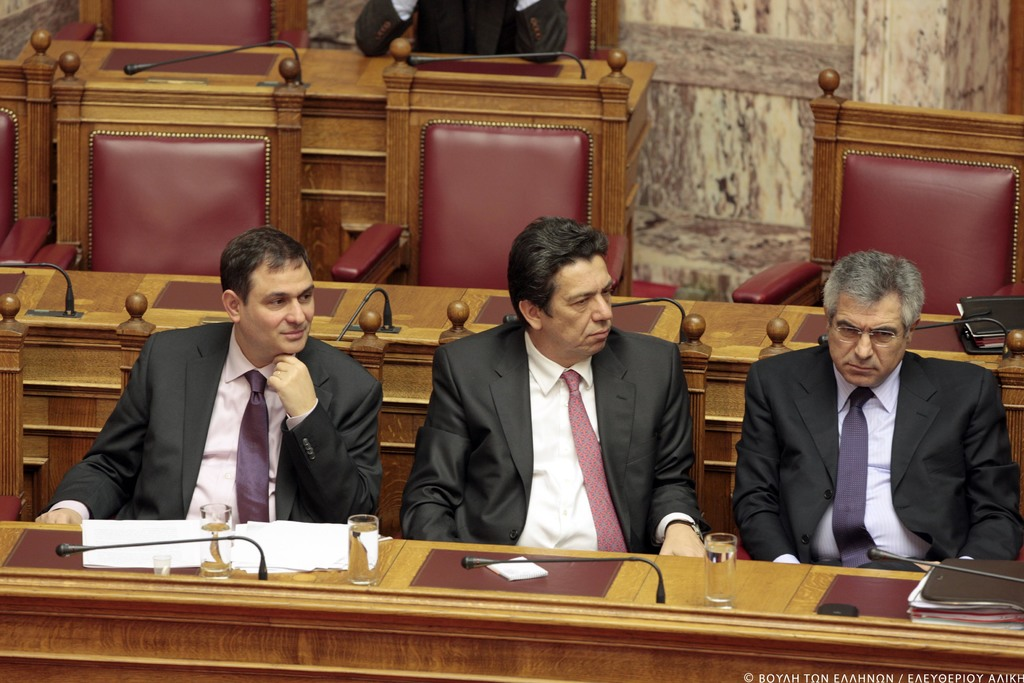Person: (401, 214, 707, 561), (38, 226, 385, 523), (728, 250, 1024, 577)
